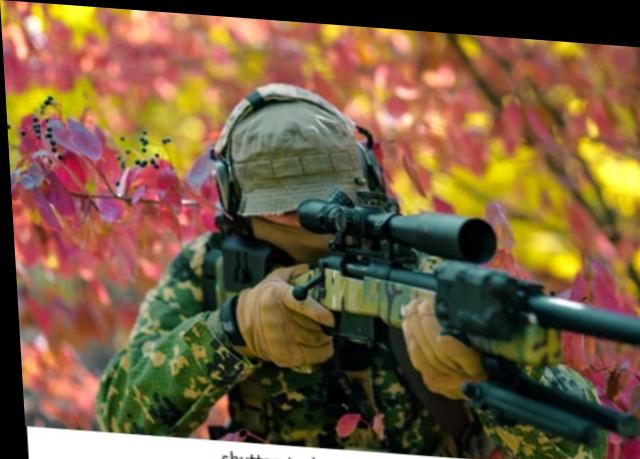other: (165, 74, 486, 445)
